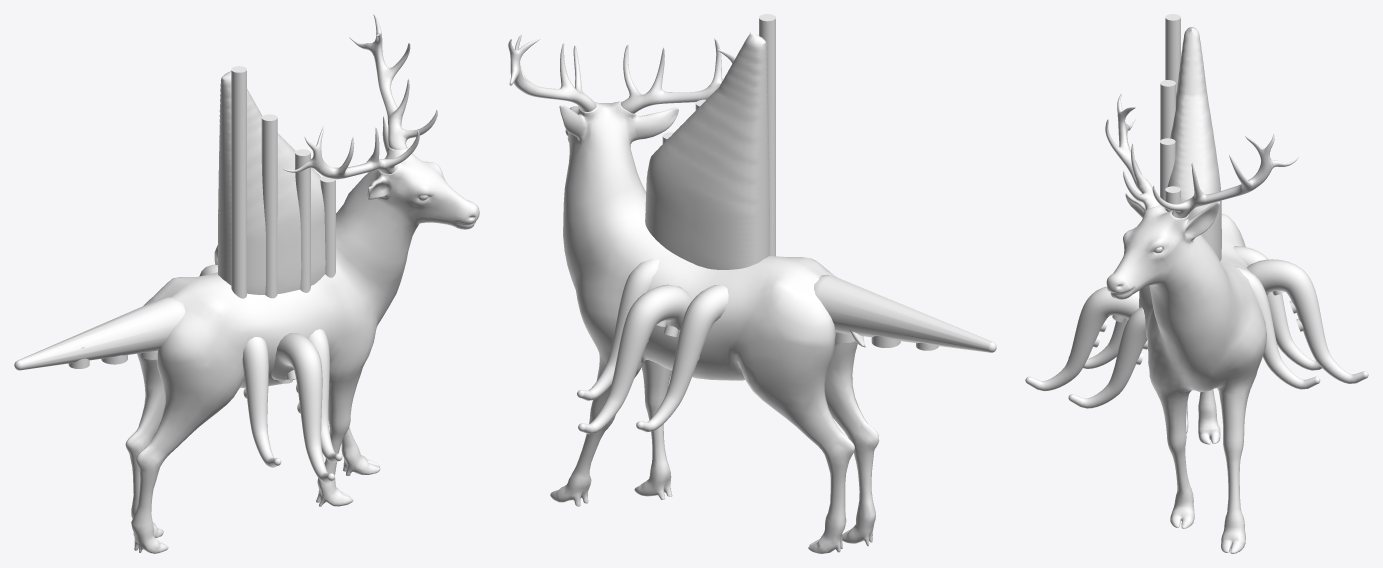
File: tidalynx.glb
3 views of the same model, side by side, from view 1: azimuth 30°, elevation 25°; view 2: azimuth 150°, elevation 25°; view 3: azimuth 270°, elevation 25° (orthographic). The views are drawn at different scales.
Visible parts, largest first — view 1: node_id30, mesh_id280, mesh_id288, mesh_id54, mesh_id240, mesh_id252, mesh_id184, mesh_id265, mesh_id166, mesh_id272; view 2: node_id30, mesh_id280, mesh_id288, mesh_id228, mesh_id235, mesh_id221, mesh_id240; view 3: node_id30, mesh_id280, mesh_id228, mesh_id54, mesh_id166, mesh_id221, mesh_id235, mesh_id240, mesh_id252, mesh_id184, mesh_id265.
Boxes of the visible parts, left/top/right/bottom form: node_id30: left=125, top=14, right=479, bottom=553; mesh_id280: left=218, top=71, right=325, bottom=294; mesh_id288: left=14, top=297, right=185, bottom=370; mesh_id54: left=271, top=333, right=334, bottom=482; mesh_id240: left=231, top=66, right=246, bottom=298; mesh_id252: left=261, top=114, right=277, bottom=298; mesh_id184: left=242, top=337, right=281, bottom=467; mesh_id265: left=295, top=149, right=310, bottom=292; mesh_id166: left=309, top=329, right=342, bottom=462; mesh_id272: left=320, top=176, right=335, bottom=277; node_id30: left=508, top=33, right=879, bottom=553; mesh_id280: left=645, top=32, right=769, bottom=269; mesh_id288: left=814, top=274, right=996, bottom=352; mesh_id228: left=578, top=284, right=692, bottom=434; mesh_id235: left=636, top=284, right=728, bottom=431; mesh_id221: left=577, top=258, right=659, bottom=400; mesh_id240: left=759, top=14, right=775, bottom=256; node_id30: left=1105, top=93, right=1298, bottom=553; mesh_id280: left=1165, top=27, right=1221, bottom=261; mesh_id228: left=1246, top=259, right=1368, bottom=383; mesh_id54: left=1025, top=286, right=1139, bottom=391; mesh_id166: left=1068, top=307, right=1147, bottom=408; mesh_id221: left=1234, top=266, right=1320, bottom=389; mesh_id235: left=1233, top=246, right=1322, bottom=370; mesh_id240: left=1165, top=14, right=1180, bottom=94; mesh_id252: left=1160, top=80, right=1175, bottom=140; mesh_id184: left=1068, top=318, right=1127, bottom=368; mesh_id265: left=1160, top=138, right=1175, bottom=200.
Bounding box in the file's own units: 0.5282 × 0.5438 × 0.3708.
16 materials, 16 textured.
